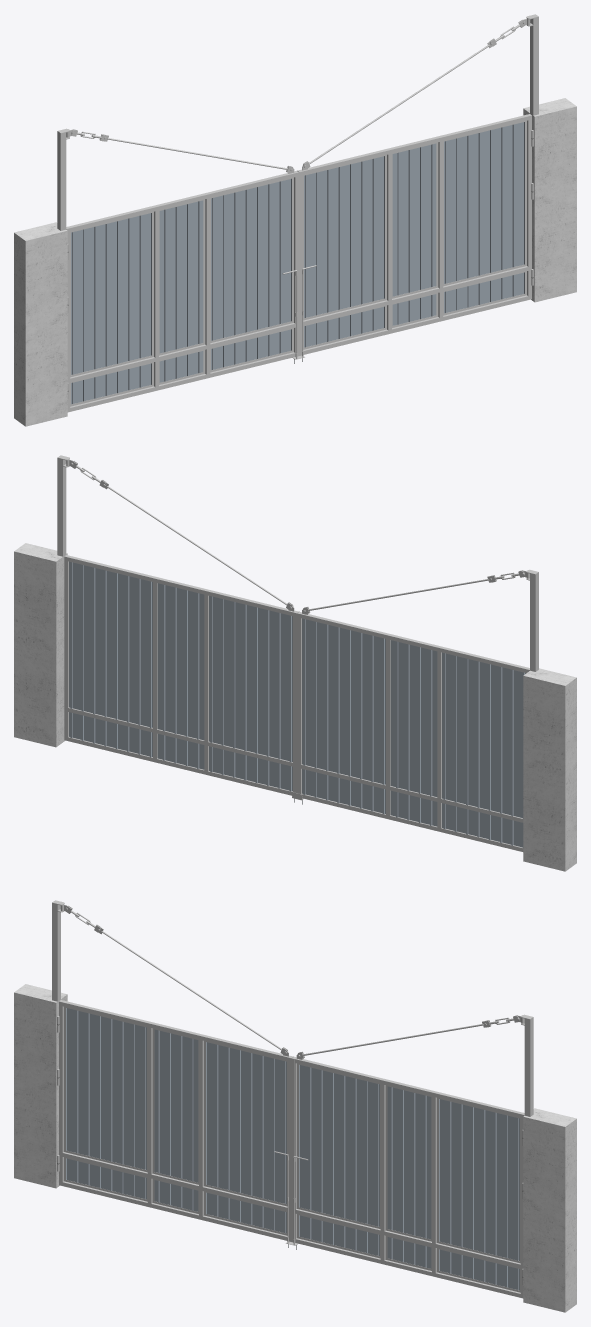
File: portao.glb
3 views of the same model, one above another, from view 1: azimuth 30°, elevation 25°; view 2: azimuth 150°, elevation 25°; view 3: azimuth 330°, elevation 25° (orthographic).
Parts seen in each view (by area): view 1: Material2 (×3); view 2: Material2 (×3); view 3: Material2 (×3).
Part boxes in pixels (x1,y1,x2,y2): Material2 (×3): (14, 14, 576, 426); Material2 (×3): (14, 455, 576, 871); Material2 (×3): (14, 900, 576, 1312).
Size of the model in its own units: 232 by 116 by 8.46.
Materials: 6 (3 with a texture image).
